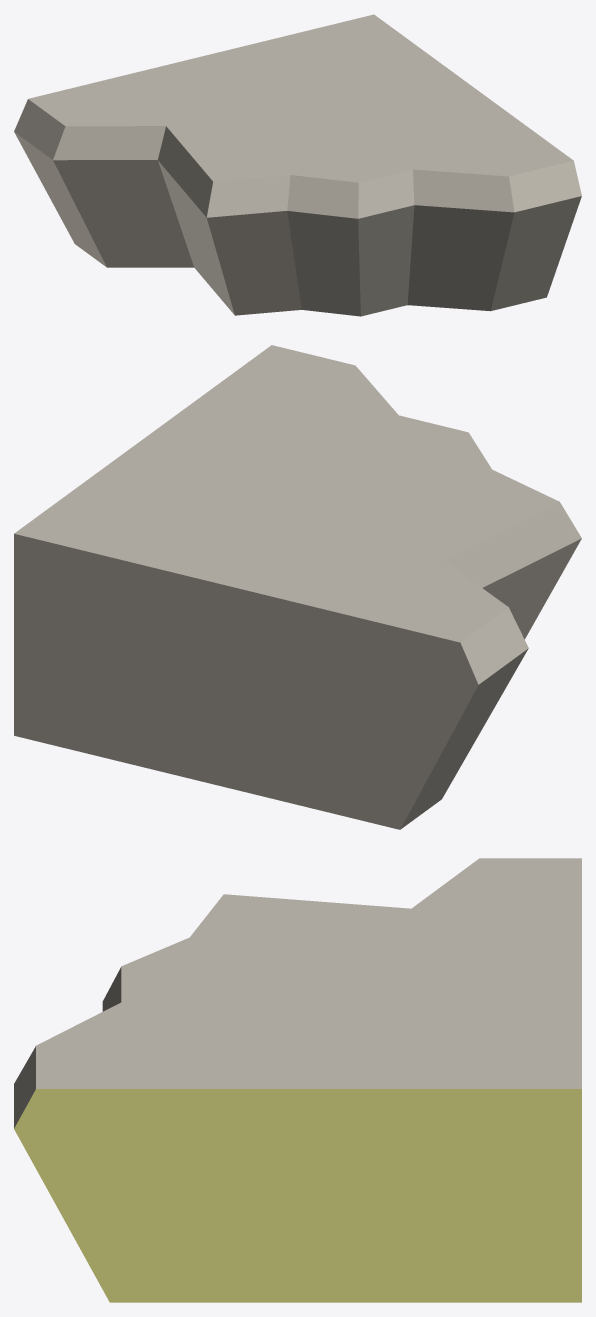
The model's file is Cracked_Curve_Outer_3x3_2_Top.glb.
3 renders of one model, top to bottom at view 1: azimuth 30°, elevation 25°; view 2: azimuth 150°, elevation 25°; view 3: azimuth 270°, elevation 25°, orthographic. The views are drawn at different scales.
Visible parts, largest first — view 1: Cracked_Curve_Outer_3x3_2_Top; view 2: Cracked_Curve_Outer_3x3_2_Top; view 3: Cracked_Curve_Outer_3x3_2_Top.
Part boxes in pixels (bbox=[...]): Cracked_Curve_Outer_3x3_2_Top: bbox=[14, 14, 581, 316]; Cracked_Curve_Outer_3x3_2_Top: bbox=[14, 345, 581, 829]; Cracked_Curve_Outer_3x3_2_Top: bbox=[14, 858, 581, 1302].
Bounding box in the file's own units: 241 × 100 × 241.
